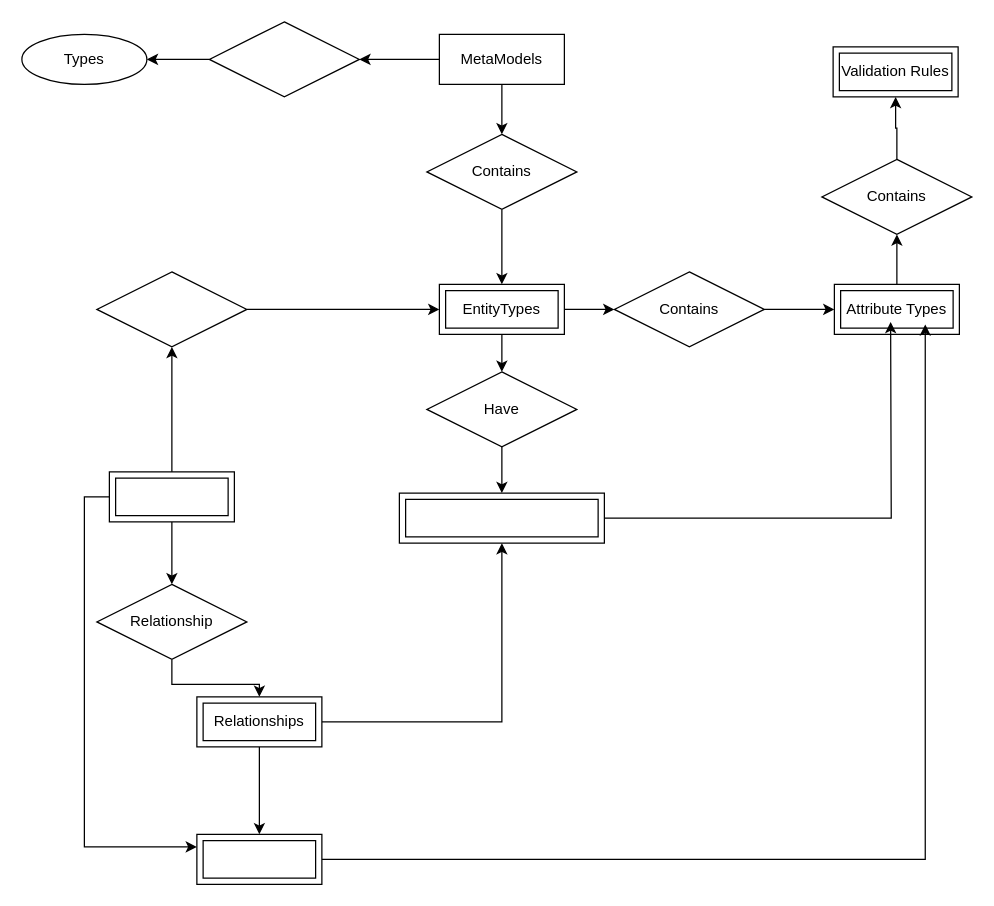
This 994x906 diagram has some shape labels left out. The centre of each missing label's shape, as x and y in pixels:
Attributes: (x=259, y=858)
Entities: (x=171, y=496)
is Instance Of: (x=171, y=309)
Is Of: (x=283, y=59)
RelationShip Types: (x=501, y=517)
